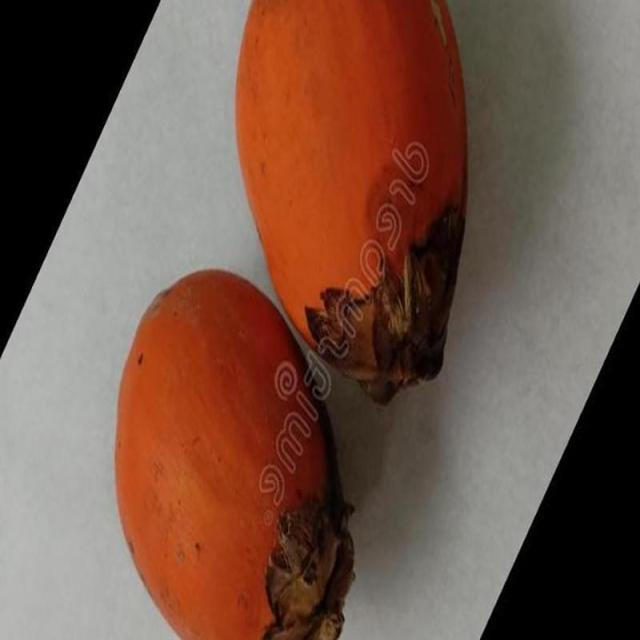good: (234, 0, 468, 407), (114, 269, 356, 639)
